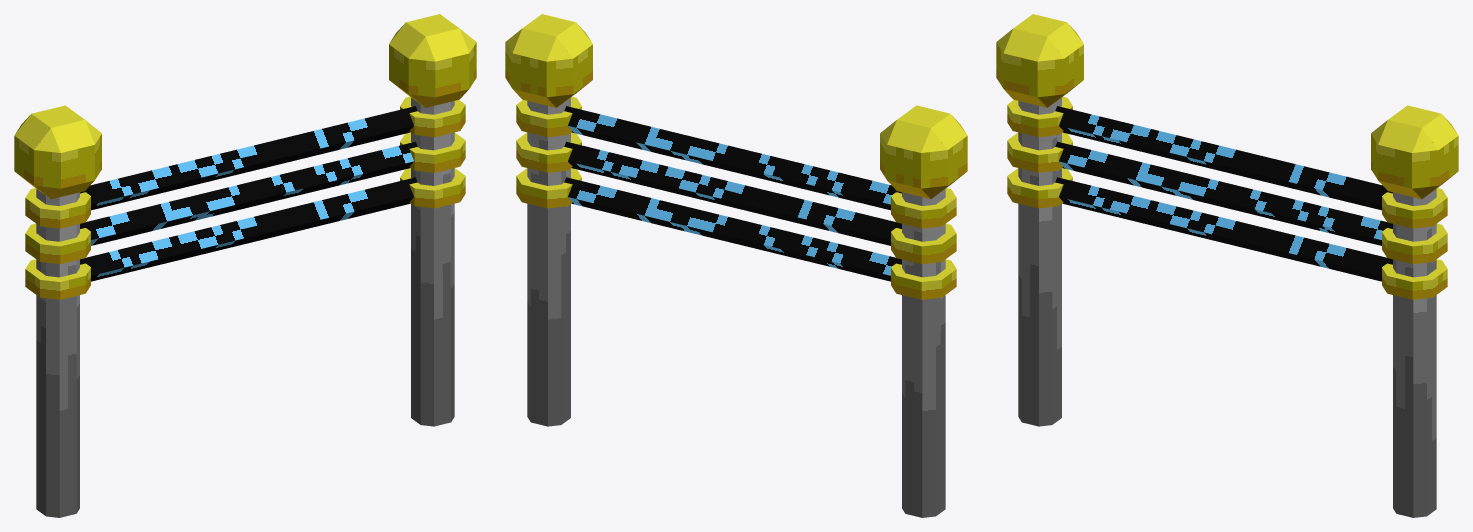
The model's file is Pylon.fbx.
The picture shows the model from 3 angles, left to right: view 1: azimuth 30°, elevation 25°; view 2: azimuth 150°, elevation 25°; view 3: azimuth 330°, elevation 25°; orthographic projection.
Visible parts, largest first — view 1: cuboid_8, cuboid, cuboid_9, cuboid_10, cuboid_4, beveled_cuboid, beveled_cuboid_1, cuboid_5, cuboid_7, cuboid_6, cuboid_3, cuboid_2 (+1 smaller); view 2: cuboid_8, cuboid, cuboid_9, cuboid_10, cuboid_4, beveled_cuboid, beveled_cuboid_1, cuboid_5, cuboid_7, cuboid_6, cuboid_3, cuboid_2 (+1 smaller); view 3: cuboid, cuboid_8, cuboid_9, cuboid_10, cuboid_4, beveled_cuboid_1, beveled_cuboid, cuboid_1, cuboid_3, cuboid_2, cuboid_7, cuboid_6 (+1 smaller).
Part boxes in pixels (box(x1,y1,x2,y2)): cuboid_8: box(36, 189, 79, 517); cuboid: box(411, 97, 454, 426); cuboid_9: box(80, 141, 417, 245); cuboid_10: box(80, 177, 417, 281); cuboid_4: box(80, 106, 417, 210); beveled_cuboid: box(389, 14, 476, 107); beveled_cuboid_1: box(14, 105, 101, 199); cuboid_5: box(25, 188, 90, 228); cuboid_7: box(25, 259, 90, 299); cuboid_6: box(25, 223, 90, 264); cuboid_3: box(400, 168, 465, 208); cuboid_2: box(400, 132, 465, 172); cuboid_8: box(902, 189, 945, 517); cuboid: box(527, 97, 570, 426); cuboid_9: box(564, 141, 901, 245); cuboid_10: box(564, 177, 901, 281); cuboid_4: box(564, 106, 901, 210); beveled_cuboid: box(505, 14, 592, 107); beveled_cuboid_1: box(880, 105, 967, 199); cuboid_5: box(891, 188, 956, 228); cuboid_7: box(891, 259, 956, 299); cuboid_6: box(891, 223, 956, 264); cuboid_3: box(516, 168, 581, 208); cuboid_2: box(516, 132, 581, 172); cuboid: box(1393, 189, 1436, 517); cuboid_8: box(1018, 97, 1061, 426); cuboid_9: box(1055, 141, 1392, 245); cuboid_10: box(1055, 177, 1392, 281); cuboid_4: box(1055, 106, 1392, 210); beveled_cuboid_1: box(996, 14, 1083, 107); beveled_cuboid: box(1371, 105, 1458, 199); cuboid_1: box(1382, 188, 1447, 228); cuboid_3: box(1382, 259, 1447, 299); cuboid_2: box(1382, 223, 1447, 264); cuboid_7: box(1007, 168, 1072, 208); cuboid_6: box(1007, 132, 1072, 172).
Bounding box in the file's own units: 325 × 275 × 50.
Materials: 2 (2 with a texture image).
